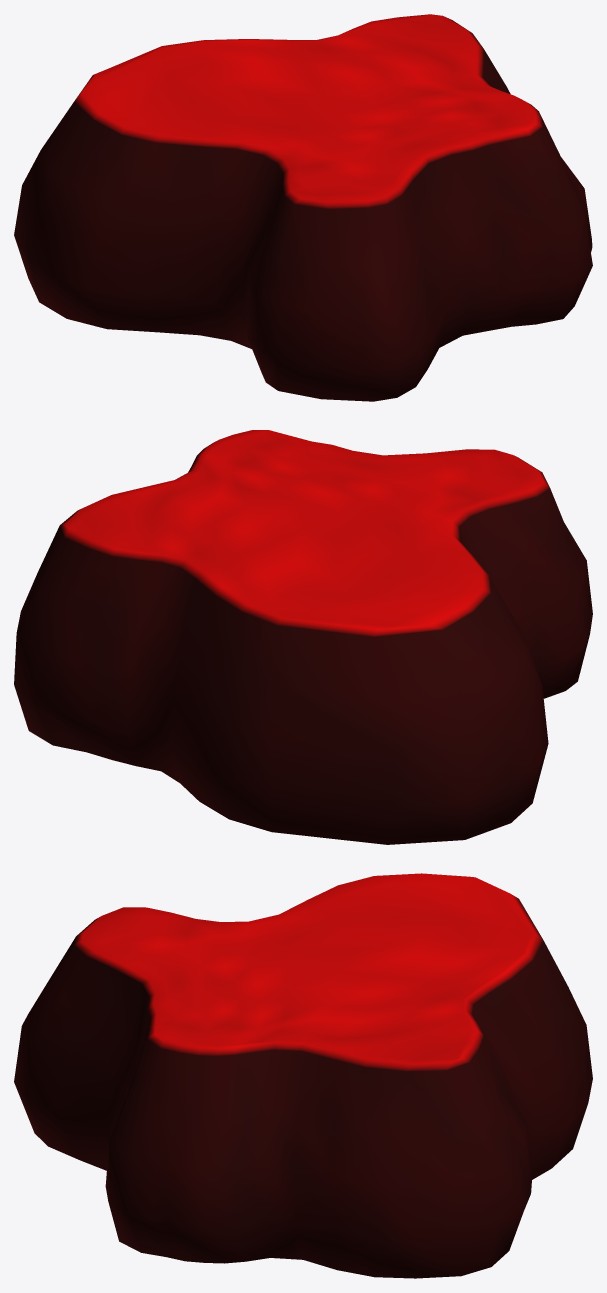
Rendered from geology-landforms-iceplateau_v3.fbx.
3 renders of one model, top to bottom at view 1: azimuth 30°, elevation 25°; view 2: azimuth 150°, elevation 25°; view 3: azimuth 270°, elevation 25°, orthographic. The views are drawn at different scales.
Parts seen in each view (by area): view 1: IcePlateau_v3; view 2: IcePlateau_v3; view 3: IcePlateau_v3.
Part boxes in pixels (x1,y1,x2,y2): IcePlateau_v3: (14, 14, 592, 401); IcePlateau_v3: (14, 430, 592, 844); IcePlateau_v3: (14, 873, 592, 1278).
Size of the model in its own units: 57.56 by 21.52 by 57.36.
